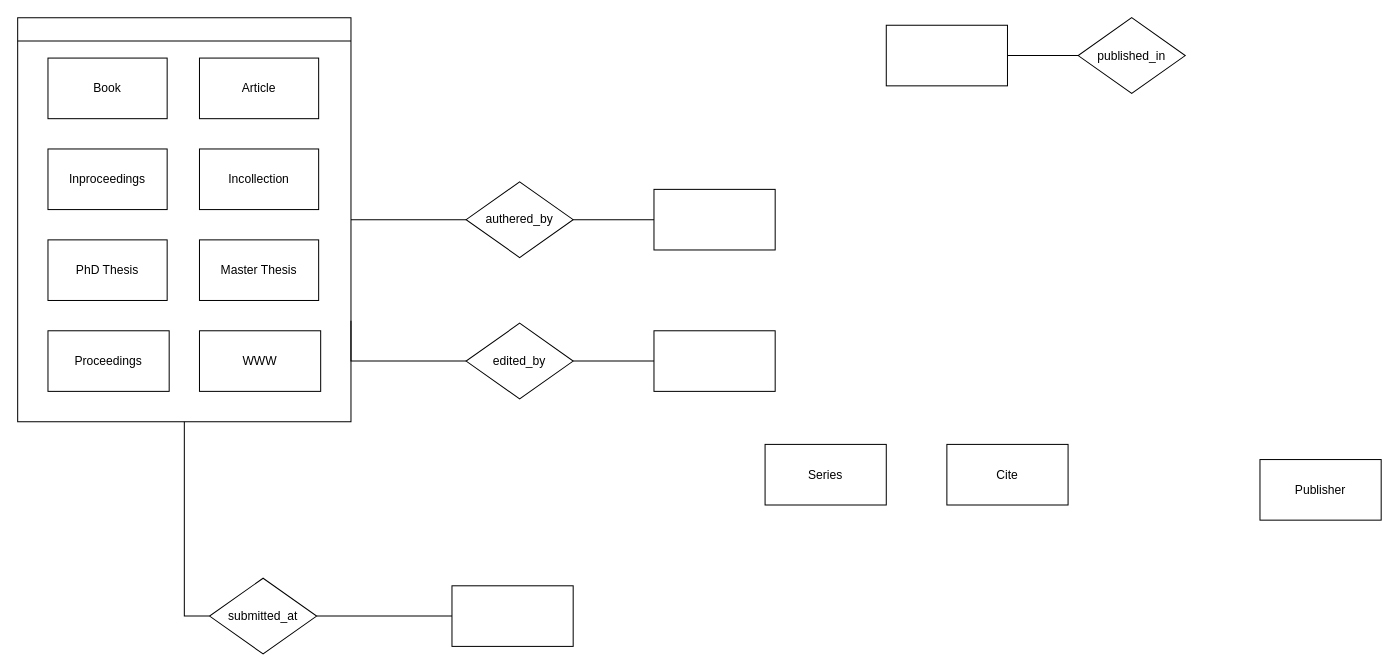
Some shapes in this 1399 by 672 pixel diagram are drawn without their labels. Each missing label, with the box of its shape:
Author: (653, 188, 775, 250)
Editor: (653, 330, 775, 391)
Journal: (885, 24, 1007, 86)
Records: (17, 17, 351, 422)
School: (451, 585, 573, 646)
